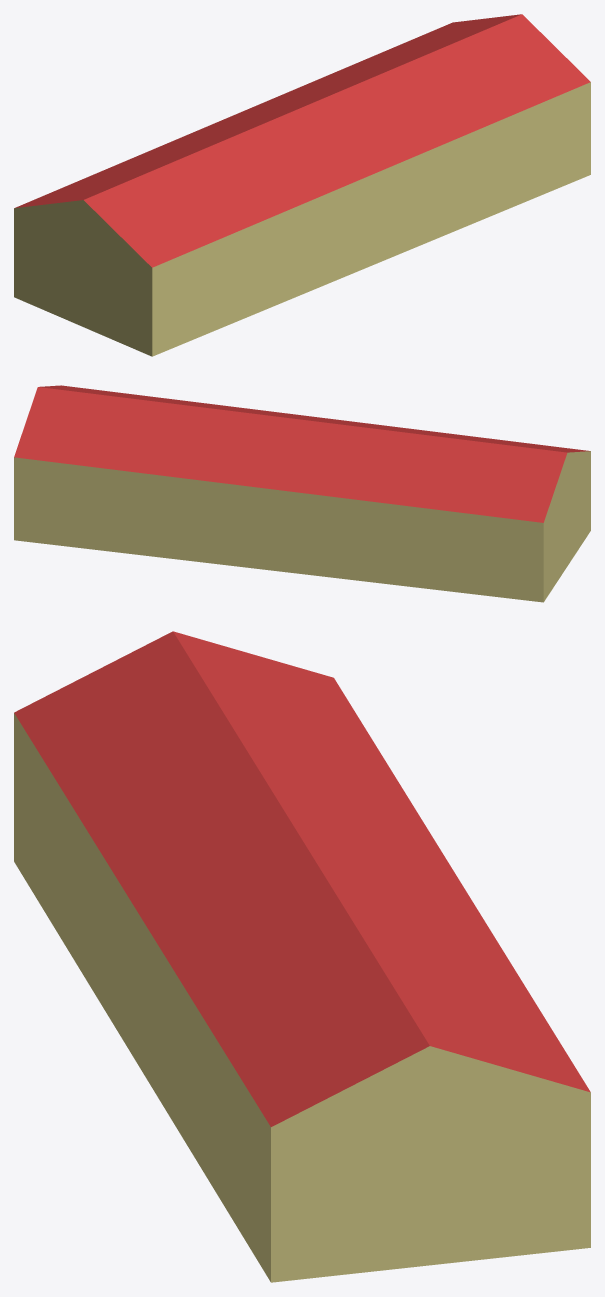
The picture shows the model from 3 angles, top to bottom: view 1: azimuth 30°, elevation 25°; view 2: azimuth 150°, elevation 25°; view 3: azimuth 270°, elevation 25°; orthographic projection. The views are drawn at different scales.
Bounding box in the file's own units: 40.45 × 21.63 × 9.07.
